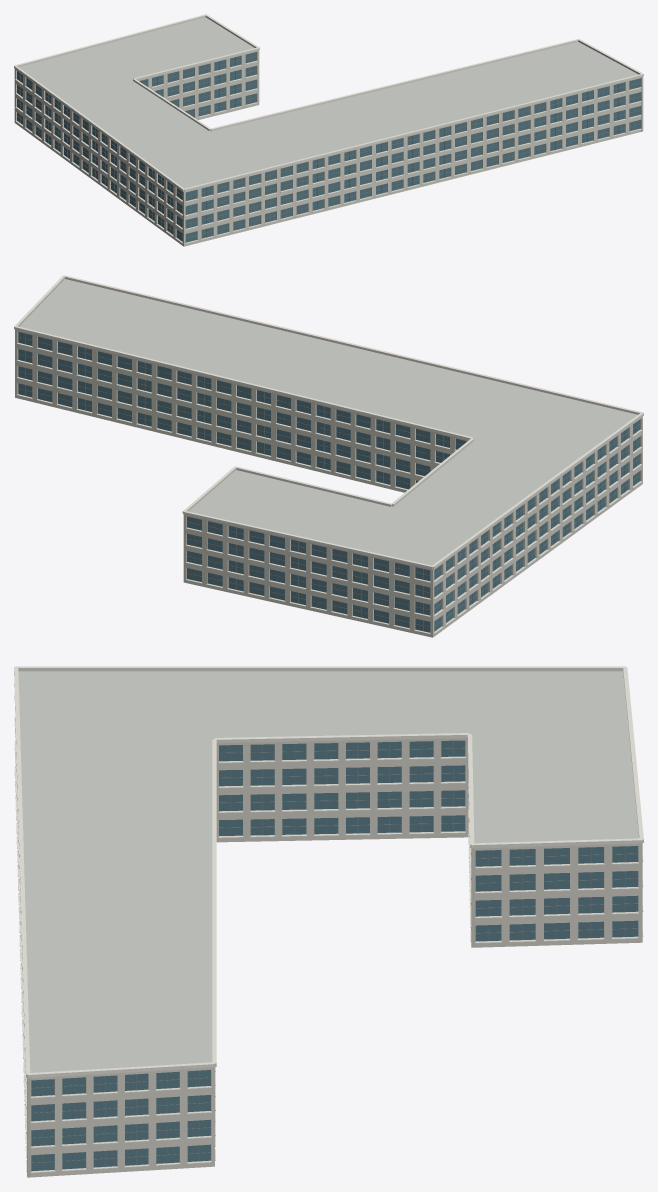
3 renders of one model, top to bottom at view 1: azimuth 30°, elevation 25°; view 2: azimuth 150°, elevation 25°; view 3: azimuth 270°, elevation 25°, orthographic. The views are drawn at different scales.
Parts seen in each view (by area): view 1: roof, wall, glass, trim, metal; view 2: roof, wall, glass, trim, metal; view 3: roof, wall, glass, trim, metal.
Part boxes in pixels (x1,y1,x2,y2): roof: (19,17,638,188); wall: (14,50,643,246); glass: (17,52,640,242); trim: (14,14,643,243); metal: (17,53,640,240); roof: (19,279,637,565); wall: (15,329,642,637); glass: (18,332,640,632); trim: (14,275,643,634); metal: (18,333,640,631); roof: (18,671,638,1072); wall: (15,728,642,1177); glass: (31,740,638,1171); trim: (14,666,643,1173); metal: (31,740,638,1170).
Size of the model in its own units: 111 by 13.04 by 72.14.
